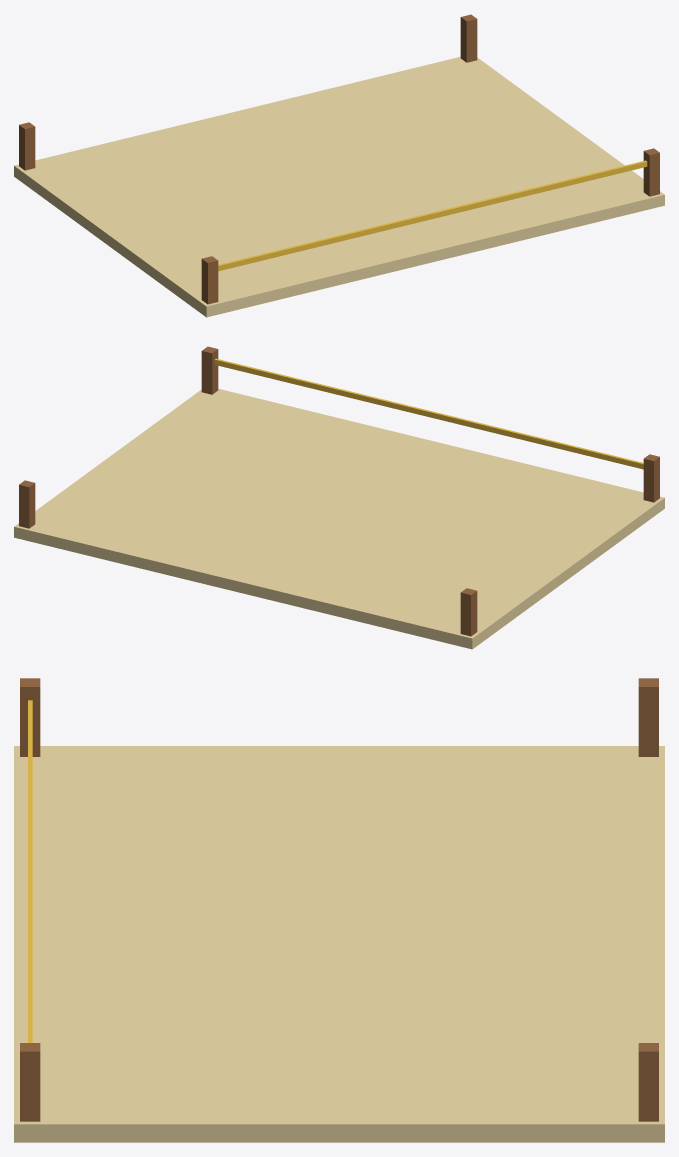
Rendered from plot.fbx.
The picture shows the model from 3 angles, top to bottom: view 1: azimuth 30°, elevation 25°; view 2: azimuth 150°, elevation 25°; view 3: azimuth 270°, elevation 25°; orthographic projection. The views are drawn at different scales.
Parts seen in each view (by area): view 1: plot; view 2: plot; view 3: plot.
Boxes of the visible parts, x1,y1,x2,y2 form: plot: (14, 14, 664, 317); plot: (14, 346, 664, 649); plot: (14, 678, 664, 1142).
Size of the model in its own units: 11 by 1.2 by 8.
